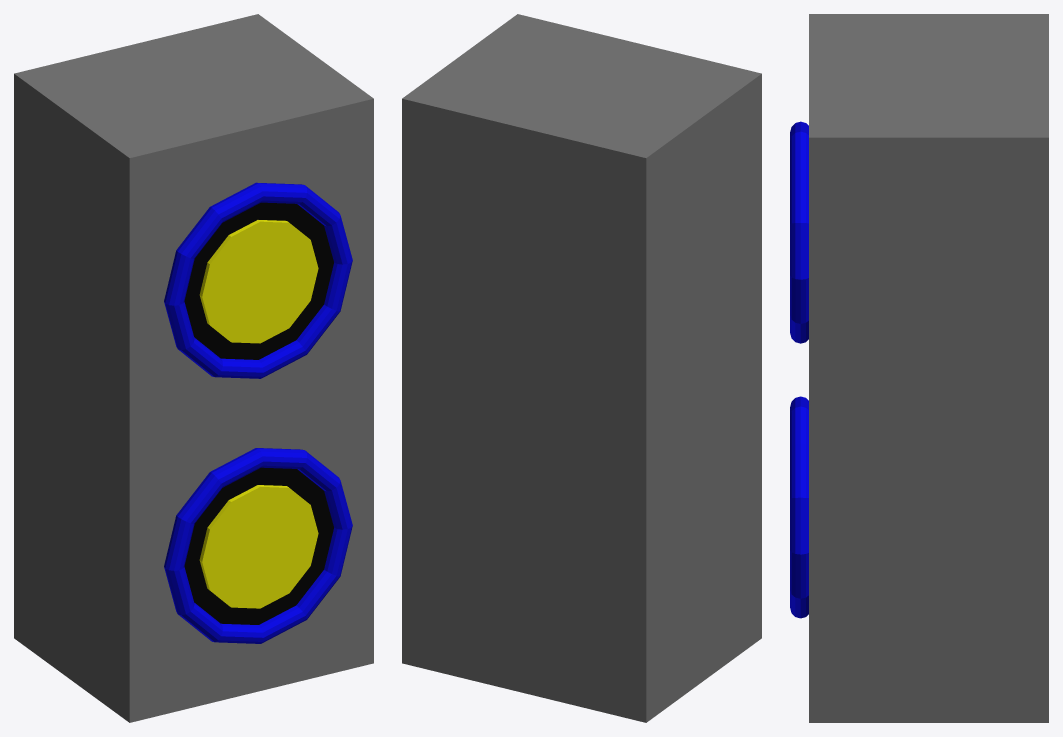
The model's file is level12.fbx.
The picture shows the model from 3 angles, left to right: view 1: azimuth 30°, elevation 25°; view 2: azimuth 150°, elevation 25°; view 3: azimuth 270°, elevation 25°; orthographic projection. The views are drawn at different scales.
Visible parts, largest first — view 1: pCylinder26; view 2: pCylinder26; view 3: pCylinder26.
Part boxes in pixels (left/top/right/bottom): pCylinder26: left=14, top=14, right=373, bottom=722; pCylinder26: left=402, top=14, right=761, bottom=722; pCylinder26: left=790, top=14, right=1048, bottom=722.
Bounding box in the file's own units: 1.17 × 2.59 × 1.04.
